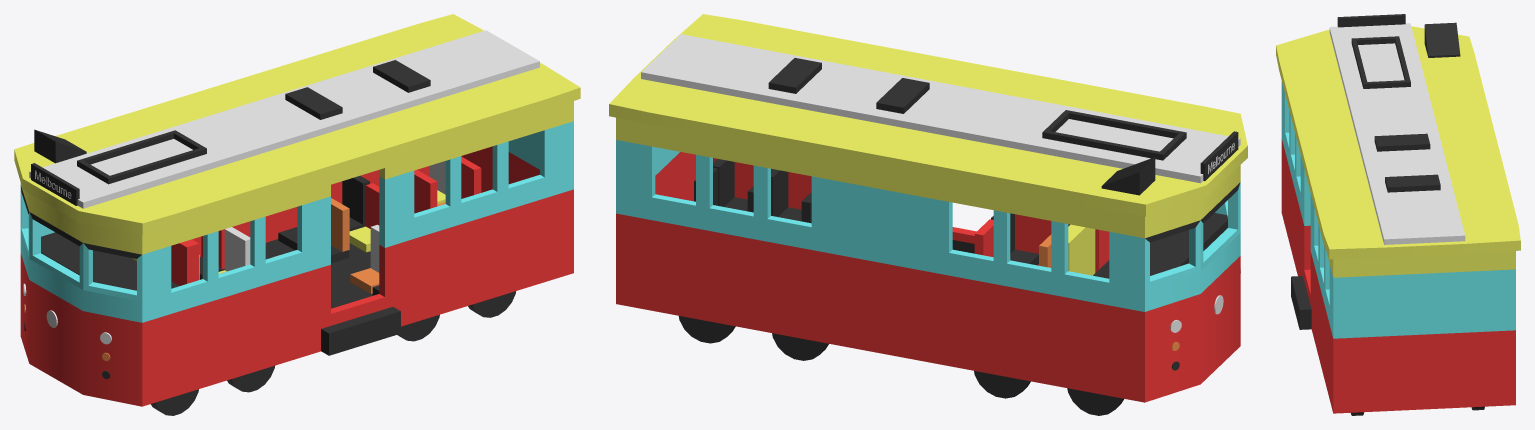
Rendered from Train.gltf.
3 views of the same model, side by side, from view 1: azimuth 30°, elevation 25°; view 2: azimuth 150°, elevation 25°; view 3: azimuth 270°, elevation 25° (orthographic). The views are drawn at different scales.
Visible parts, largest first — view 1: node-0; view 2: node-0; view 3: node-0.
Boxes of the visible parts, left/top/right/bottom form: node-0: left=14, top=14, right=580, bottom=415; node-0: left=609, top=14, right=1247, bottom=415; node-0: left=1276, top=14, right=1520, bottom=415.
Bounding box in the file's own units: 1047 × 472 × 485.
